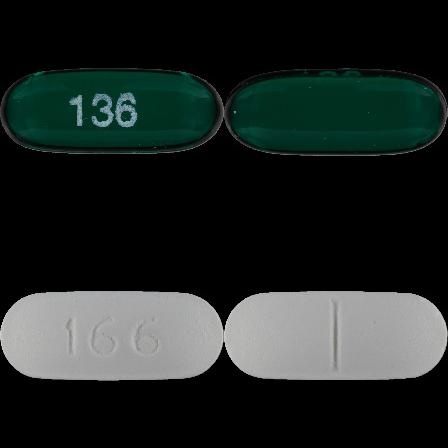57664-136: (0, 0, 224, 224)
